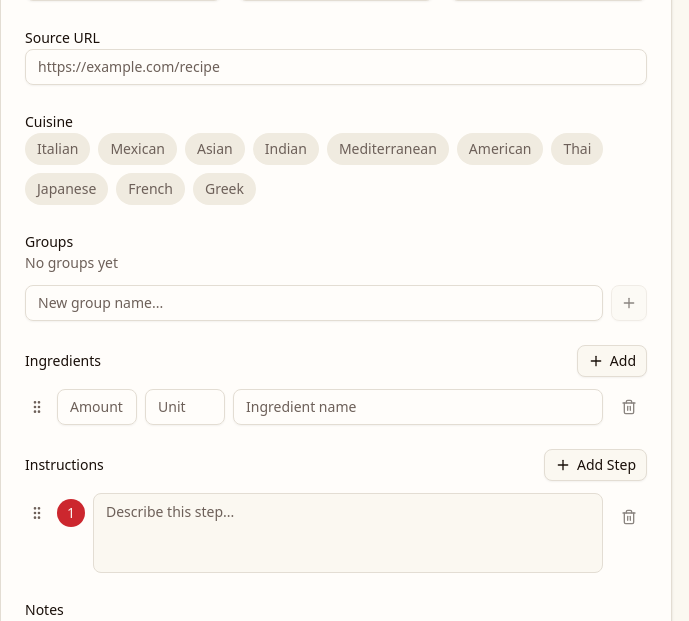
Scenario: RecipeForm - Create Mode › adds ingredient when Add button is clicked
The image size is (689, 621).
(page scrolled)
Click the button "Add": x=612, y=361 577,345 -> 647,377
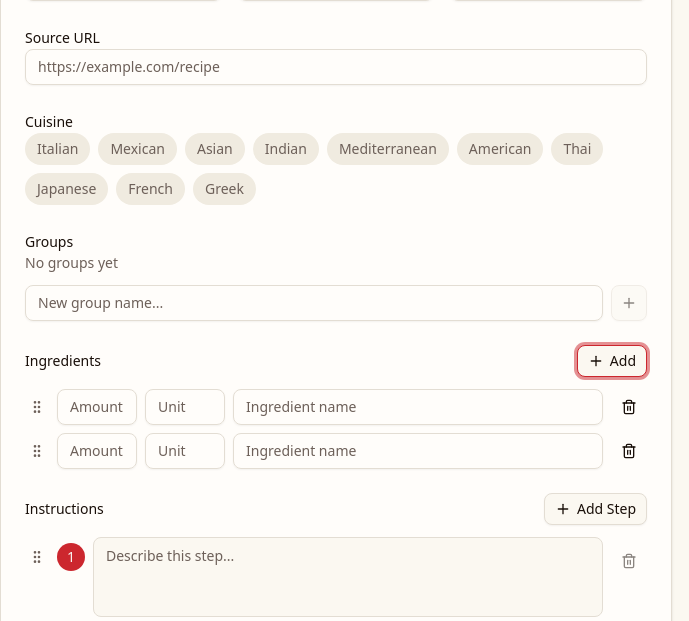
Expected: the number of fields with placeholder "Ingredient name" is 2, 233,389 -> 603,425; 233,433 -> 603,469
